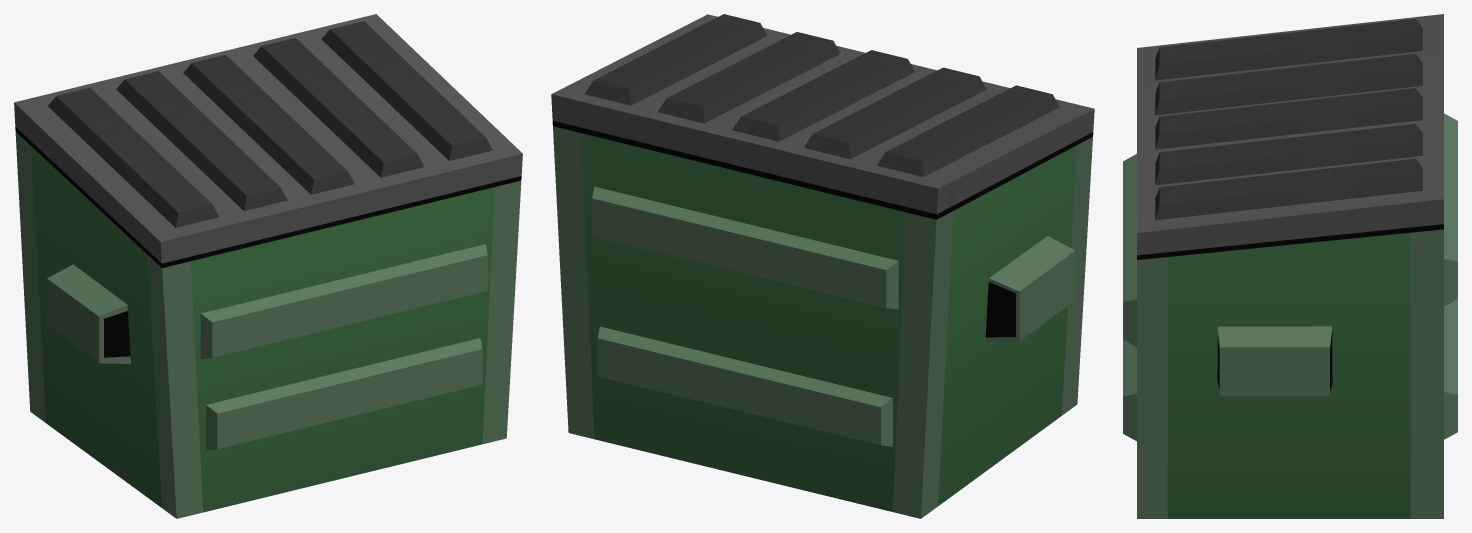
Rendered from SM_DustBin_2.FBX.
3 renders of one model, left to right at view 1: azimuth 30°, elevation 25°; view 2: azimuth 150°, elevation 25°; view 3: azimuth 270°, elevation 25°, orthographic. The views are drawn at different scales.
Visible parts, largest first — view 1: SM_DustBin_2; view 2: SM_DustBin_2; view 3: SM_DustBin_2.
Part boxes in pixels (box(x1,y1,x2,y2)): SM_DustBin_2: box(14, 14, 522, 518); SM_DustBin_2: box(551, 14, 1094, 518); SM_DustBin_2: box(1123, 14, 1457, 518).
Size of what is drawn, in the model's own units: 160 by 109 by 121.
